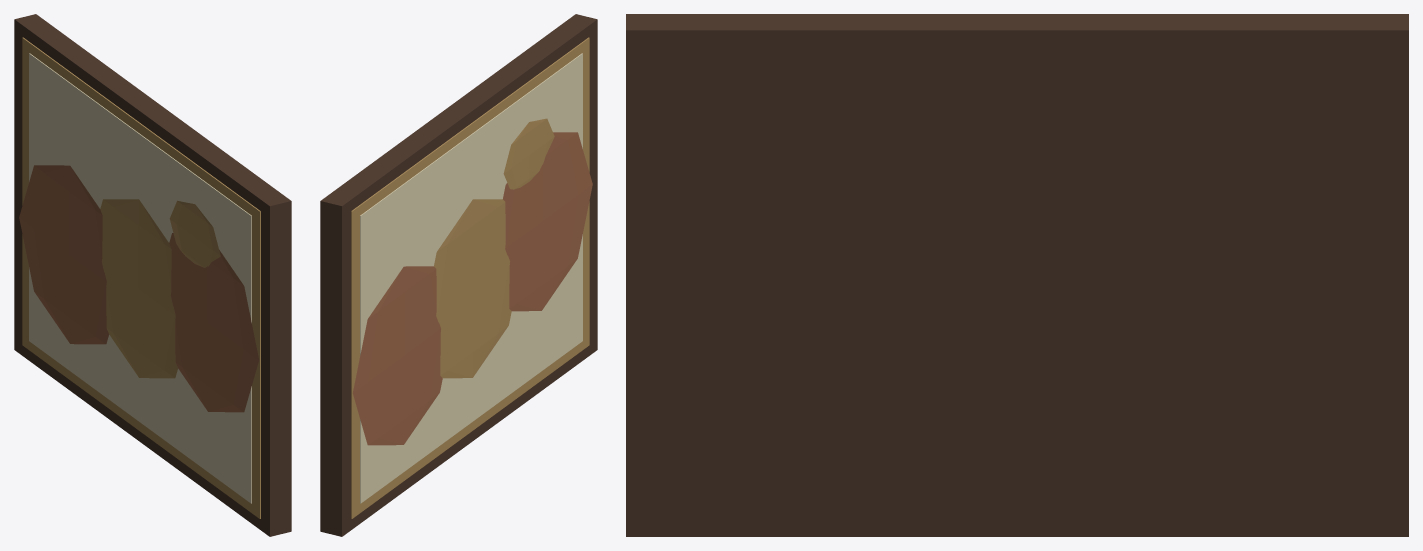
The model's file is LP_Egypt_WallPhoto.fbx.
The picture shows the model from 3 angles, left to right: view 1: azimuth 30°, elevation 25°; view 2: azimuth 150°, elevation 25°; view 3: azimuth 270°, elevation 25°; orthographic projection. The views are drawn at different scales.
Parts seen in each view (by area): view 1: WarmIvory, Walnut, Terracotta, AgedBrass; view 2: WarmIvory, Walnut, Terracotta, AgedBrass; view 3: Walnut.
Part boxes in pixels (<box>): WarmIvory: <box>29,53,251,503</box>; Walnut: <box>14,14,291,536</box>; Terracotta: <box>19,165,258,412</box>; AgedBrass: <box>22,37,260,518</box>; WarmIvory: <box>360,53,582,503</box>; Walnut: <box>320,14,597,536</box>; Terracotta: <box>352,132,592,445</box>; AgedBrass: <box>351,37,589,518</box>; Walnut: <box>626,14,1408,536</box>.
Size of the model in its own units: 8 by 100 by 140.
